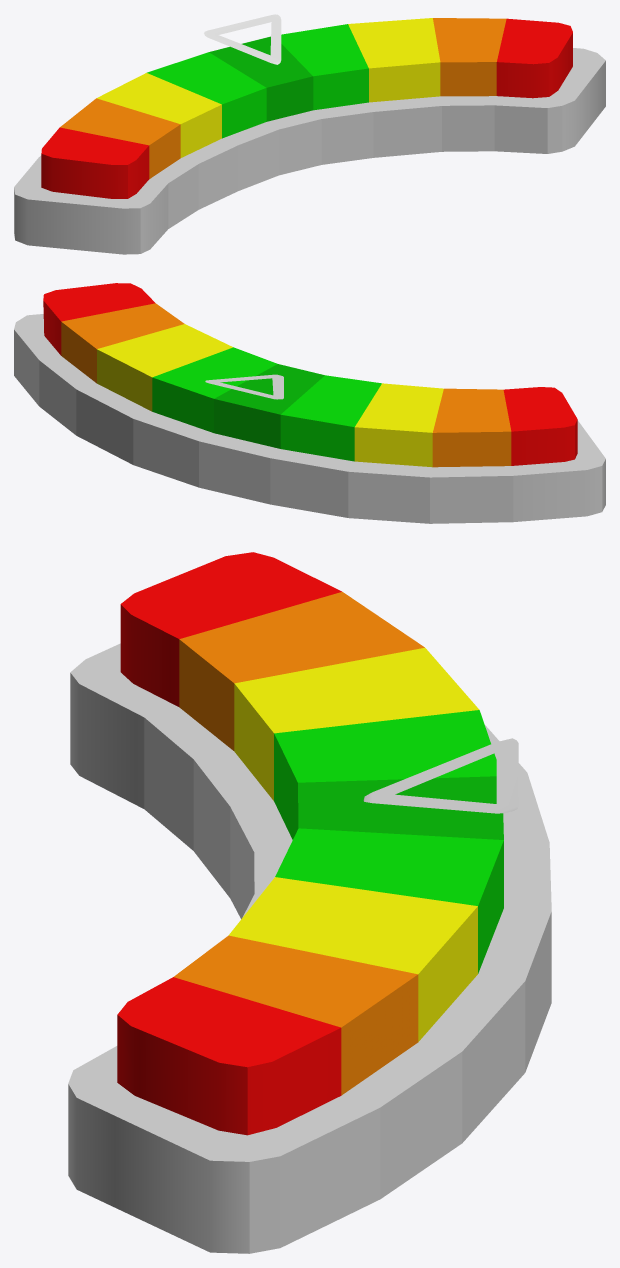
Rendered from TapSlider.fbx.
3 views of the same model, one above another, from view 1: azimuth 30°, elevation 25°; view 2: azimuth 150°, elevation 25°; view 3: azimuth 270°, elevation 25° (orthographic). The views are drawn at different scales.
Visible parts, largest first — view 1: Circle, Plane; view 2: Circle, Plane; view 3: Circle, Plane.
Part boxes in pixels (<box>): Circle: <box>14,18,605,254</box>; Plane: <box>204,14,281,64</box>; Circle: <box>14,283,605,523</box>; Plane: <box>205,374,283,399</box>; Circle: <box>68,552,551,1253</box>; Plane: <box>363,738,518,813</box>.
Size of the model in its own units: 186 by 29.86 by 66.93.
